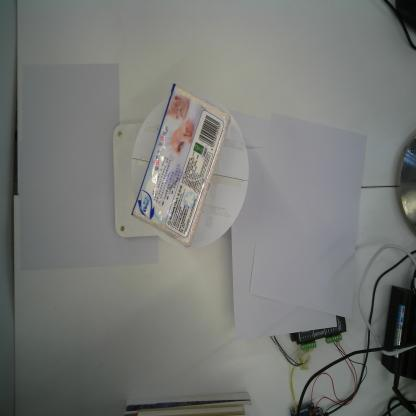Tissue: (131, 83, 231, 249)
